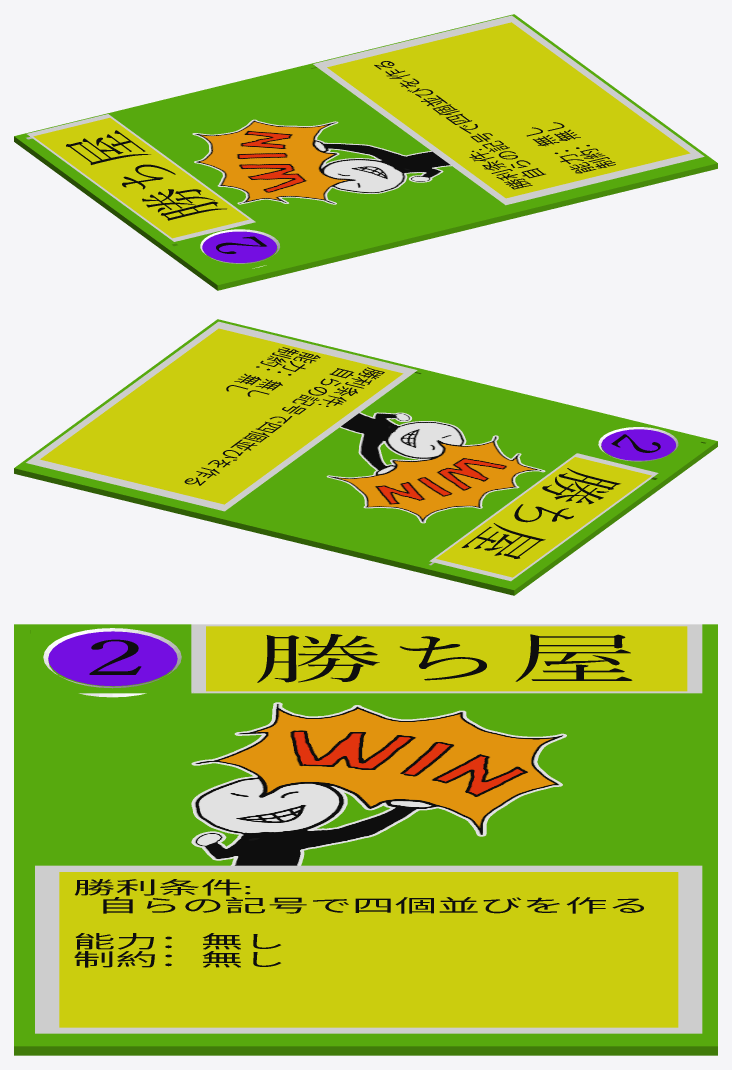
Rendered from 勝ち屋緑.fbx.
3 renders of one model, top to bottom at view 1: azimuth 30°, elevation 25°; view 2: azimuth 150°, elevation 25°; view 3: azimuth 270°, elevation 25°, orthographic. The views are drawn at different scales.
Visible parts, largest first — view 1: カード本体.001, 説明欄, 平面.001, 名前欄, 説明文, 名前, 円, 平面; view 2: カード本体.001, 説明欄, 平面.001, 名前欄, 説明文, 名前, 円, 平面; view 3: カード本体.001, 説明欄, 平面.001, 名前欄, 説明文, 平面, 円, 名前, コスト蘭.
Part boxes in pixels (<box>): カード本体.001: <box>14,14,717,290</box>; 説明欄: <box>313,15,704,205</box>; 平面.001: <box>192,119,451,204</box>; 名前欄: <box>27,114,255,241</box>; 説明文: <box>374,61,615,189</box>; 名前: <box>66,130,226,220</box>; 円: <box>202,231,276,262</box>; 平面: <box>174,222,302,275</box>; カード本体.001: <box>14,319,717,595</box>; 説明欄: <box>26,321,417,511</box>; 平面.001: <box>326,412,545,523</box>; 名前欄: <box>429,453,658,581</box>; 説明文: <box>184,347,384,485</box>; 名前: <box>461,468,620,558</box>; 円: <box>601,429,675,460</box>; 平面: <box>577,419,704,472</box>; カード本体.001: <box>14,624,717,1055</box>; 説明欄: <box>35,865,702,1033</box>; 平面.001: <box>191,702,566,865</box>; 名前欄: <box>191,624,702,693</box>; 説明文: <box>74,879,643,967</box>; 平面: <box>30,624,191,693</box>; 円: <box>48,631,177,686</box>; 名前: <box>257,634,632,682</box>; コスト蘭: <box>43,628,181,697</box>.
Size of the model in its own units: 281 by 6.07 by 198.
